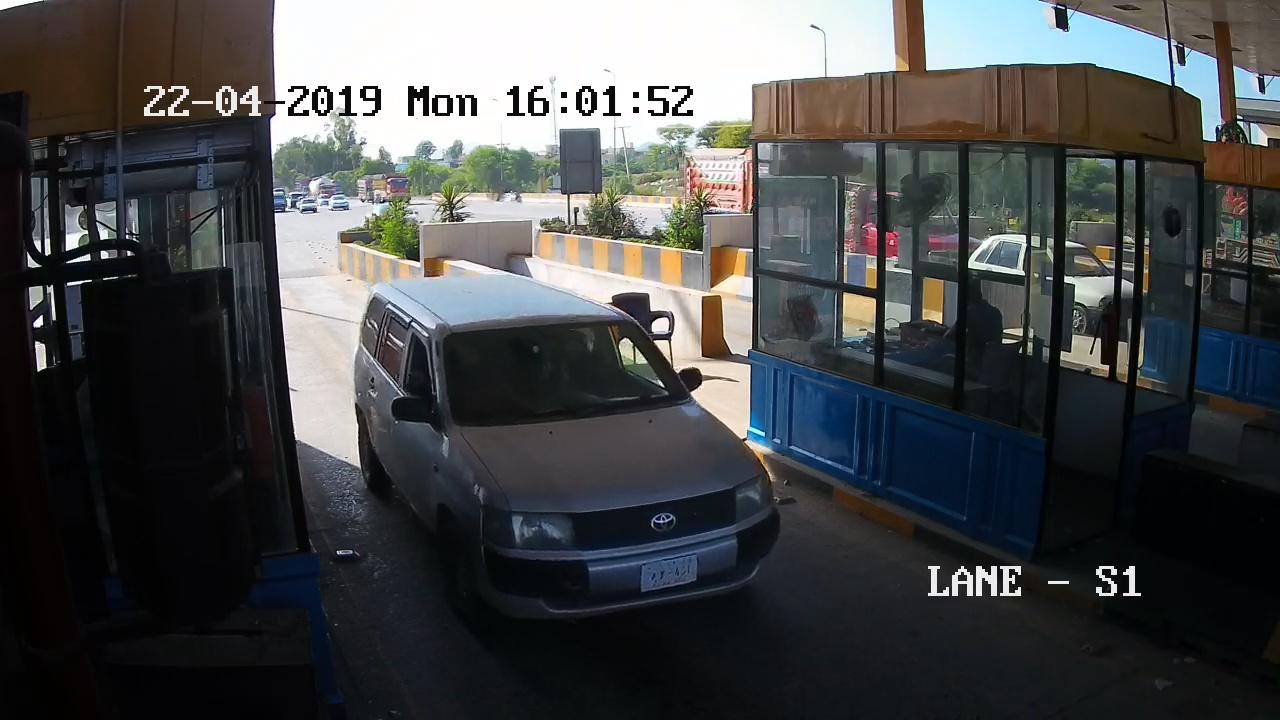Number Plate (Car): (638, 556, 700, 593)
